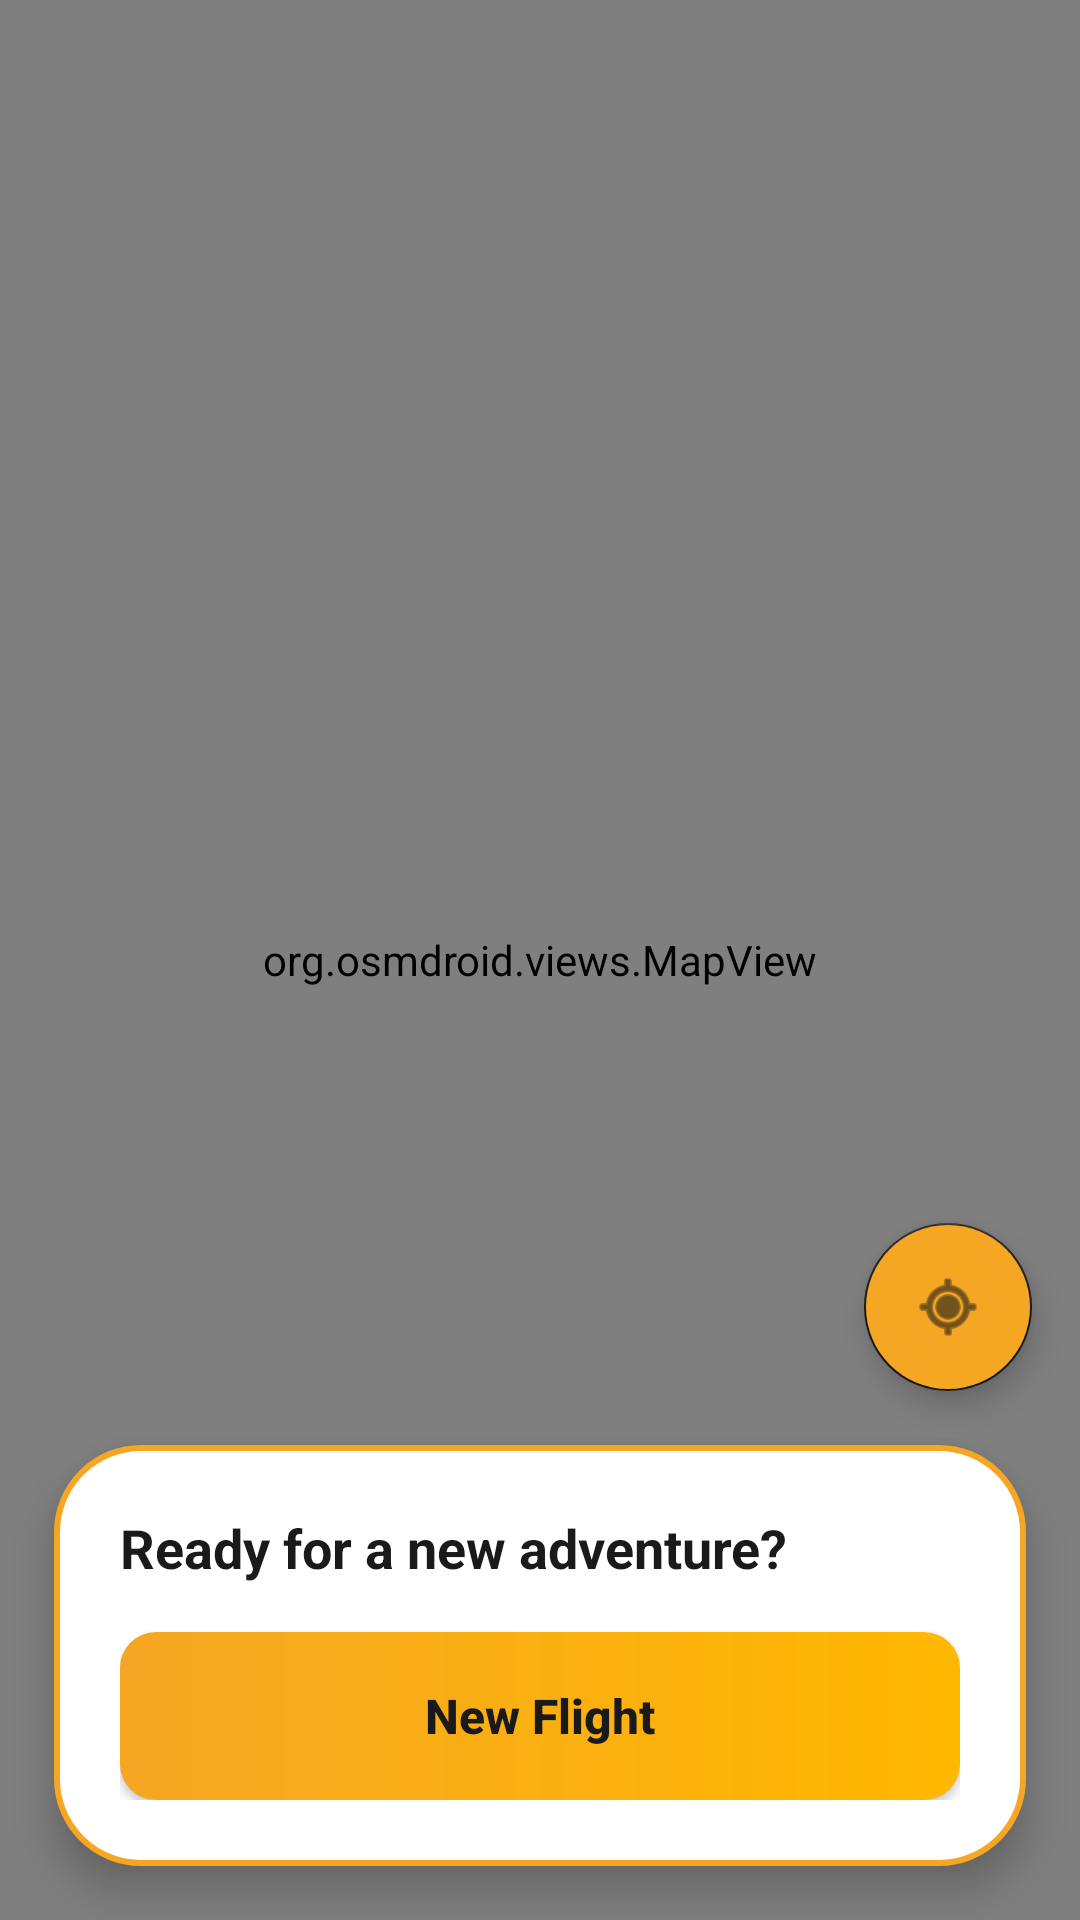

Named icons in this screenshot (1080 x 1920) and their centers, (x=x, y=y):
mylocation: (x=948, y=1307)
